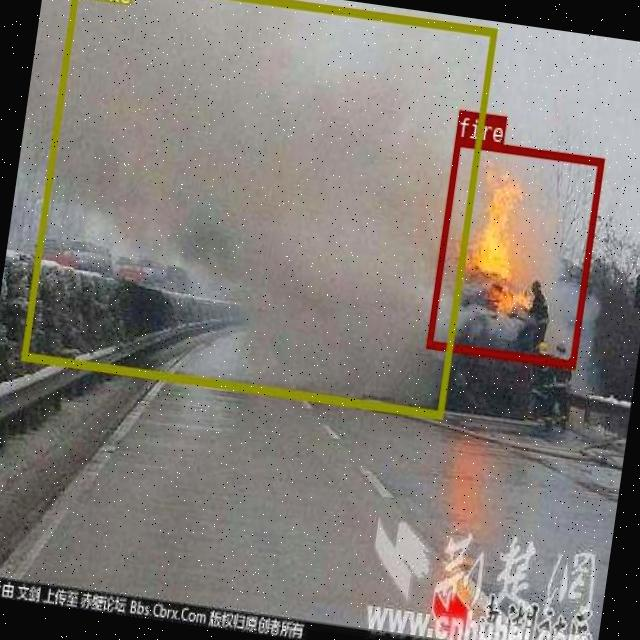fire: (425, 138, 604, 368)
smoke: (20, 0, 496, 417)
